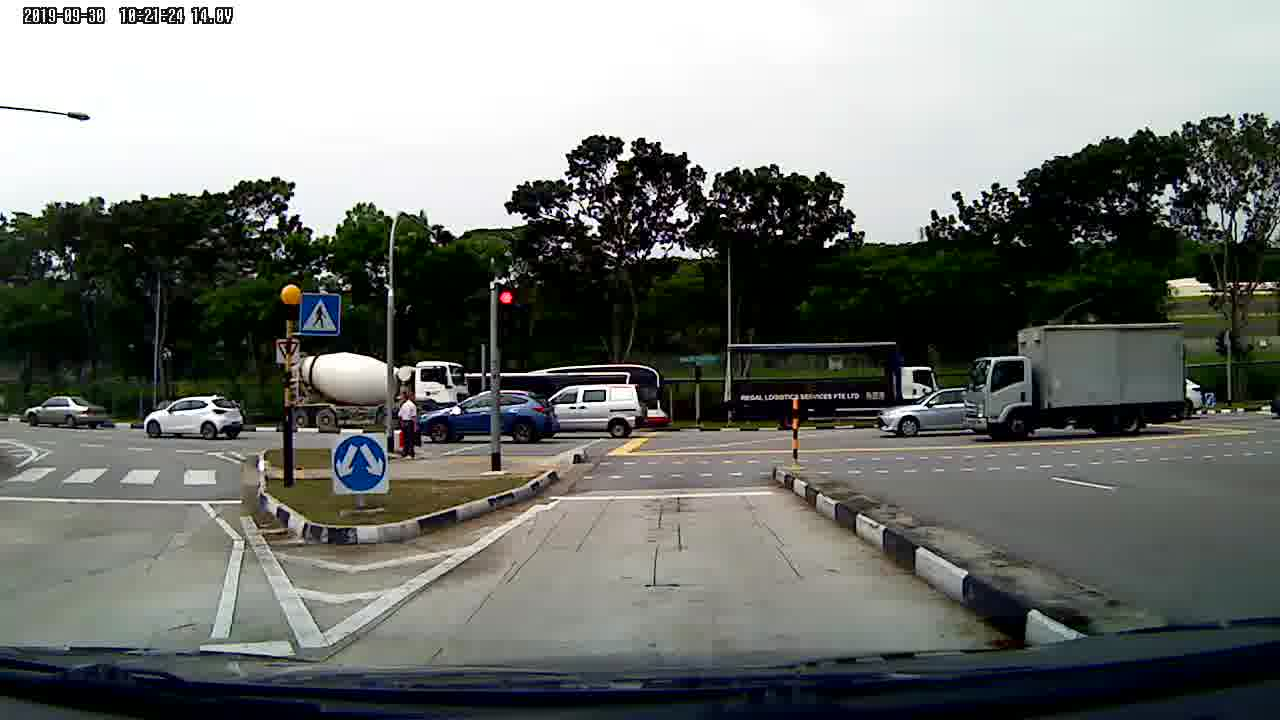bus: (464, 357, 668, 429)
car: (416, 391, 561, 453), (144, 396, 247, 447), (878, 391, 970, 433), (21, 394, 112, 433)
